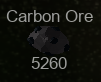Carbon: (5, 9, 94, 71)
